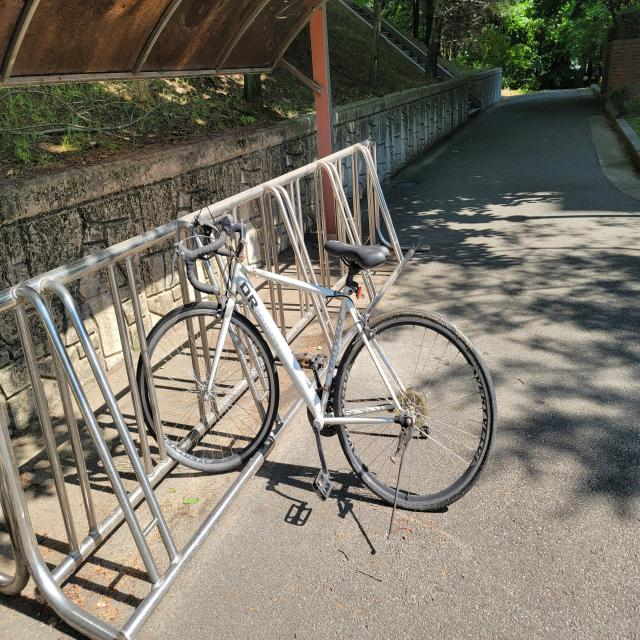bicycle: (135, 214, 497, 532)
